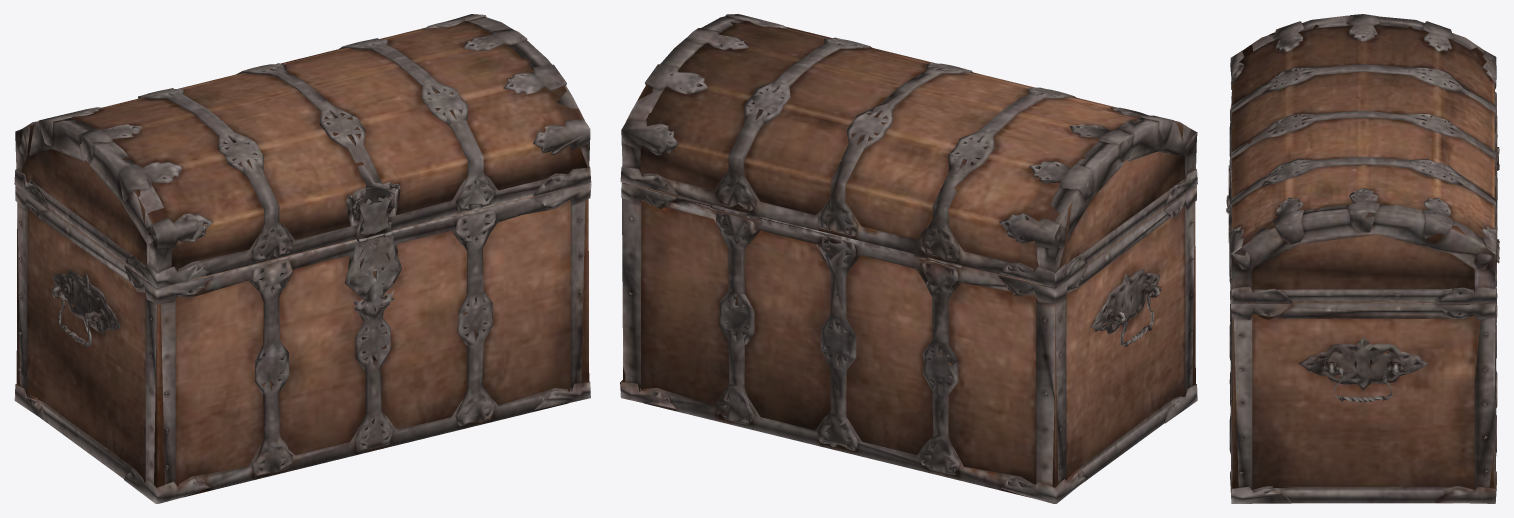
Rendered from treasure_chest.glb.
3 renders of one model, left to right at view 1: azimuth 30°, elevation 25°; view 2: azimuth 150°, elevation 25°; view 3: azimuth 270°, elevation 25°, orthographic. The views are drawn at different scales.
Visible parts, largest first — view 1: treasure_chest_bottom; view 2: treasure_chest_bottom; view 3: treasure_chest_bottom.
Part boxes in pixels (box(x1,y1,x2,y2)): treasure_chest_bottom: box(14, 14, 591, 503); treasure_chest_bottom: box(620, 14, 1197, 503); treasure_chest_bottom: box(1226, 14, 1499, 503).
Bounding box in the file's own units: 0.959 × 0.6181 × 0.5223.
Materials: 1 (1 with a texture image).
